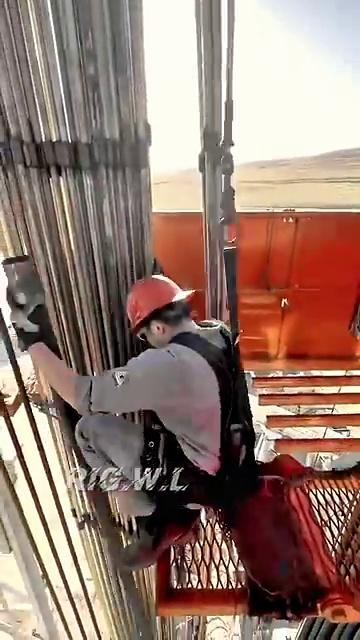gloves: (8, 248, 80, 368)
helmet: (113, 258, 223, 335)
shoes: (135, 490, 198, 578)
worker: (0, 243, 303, 610)
